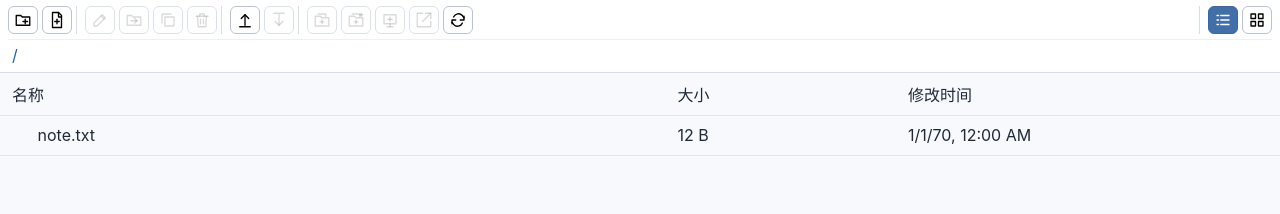
Test case: FileManagerBrowser › reports missing handlers and a busy target without changing files
Double-click the text "note.txt": (333, 135) [0,116,666,155]
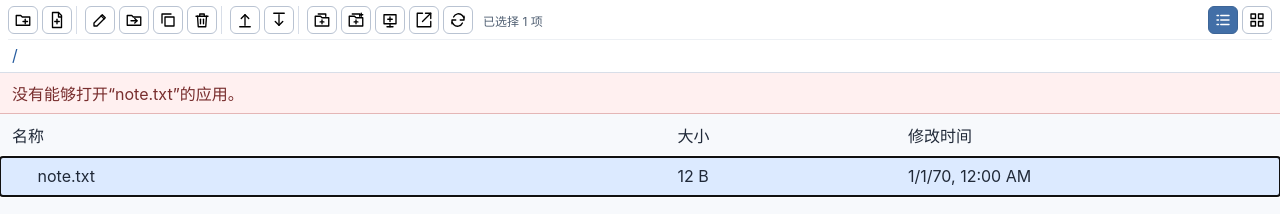
Expected: the text "没有能够打开“note.txt”的应用。" is shown, [0,73,1279,114]
Double-click the text "note.txt": (333, 176) [0,156,666,196]
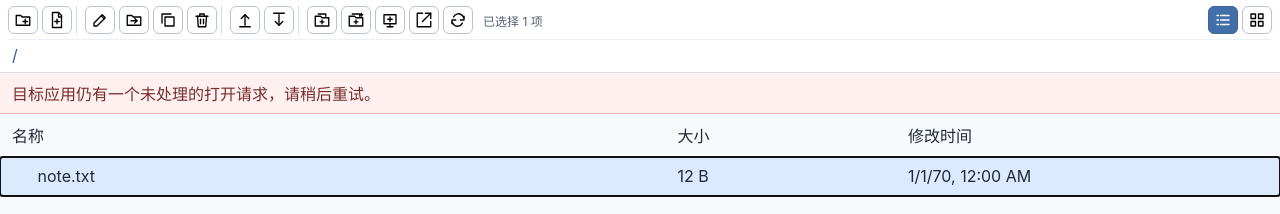
Expected: the text "目标应用仍有一个未处理的打开请求，请稍后重试。" is shown, [0,73,1279,114]
